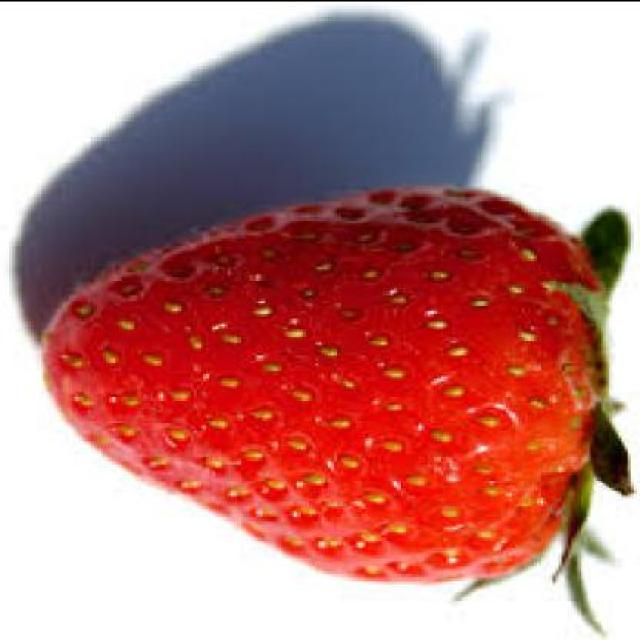BIODEGRADABLE: (43, 190, 637, 638)
